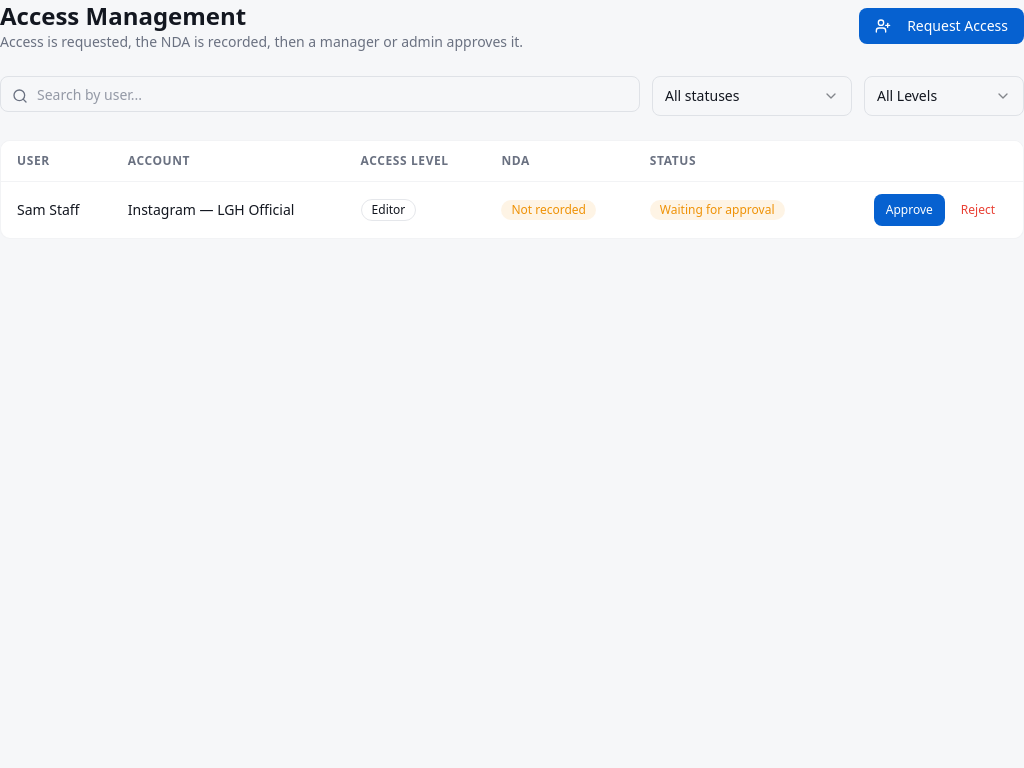
Test: Access Management › approves when allowed, and rejecting needs a reason
Later steps or results of the test are not shown.
Click the button "Approve" at point(909, 210), box [874,194,945,226]
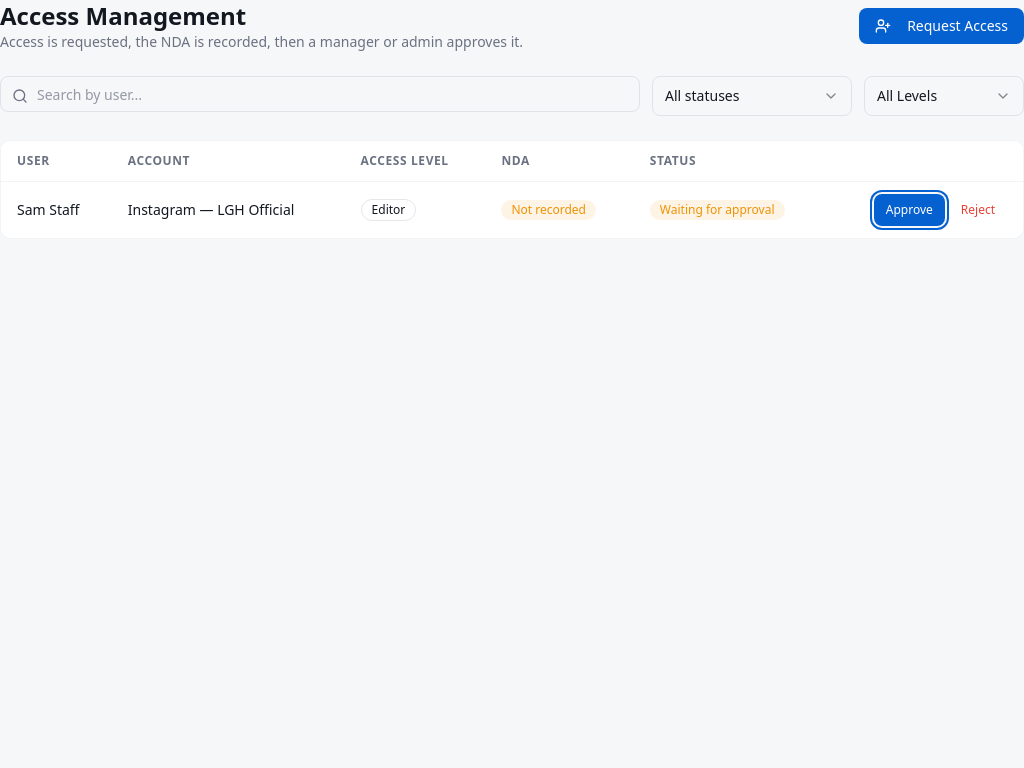
Click the button "Reject" at point(978, 210), box [949,194,1007,226]
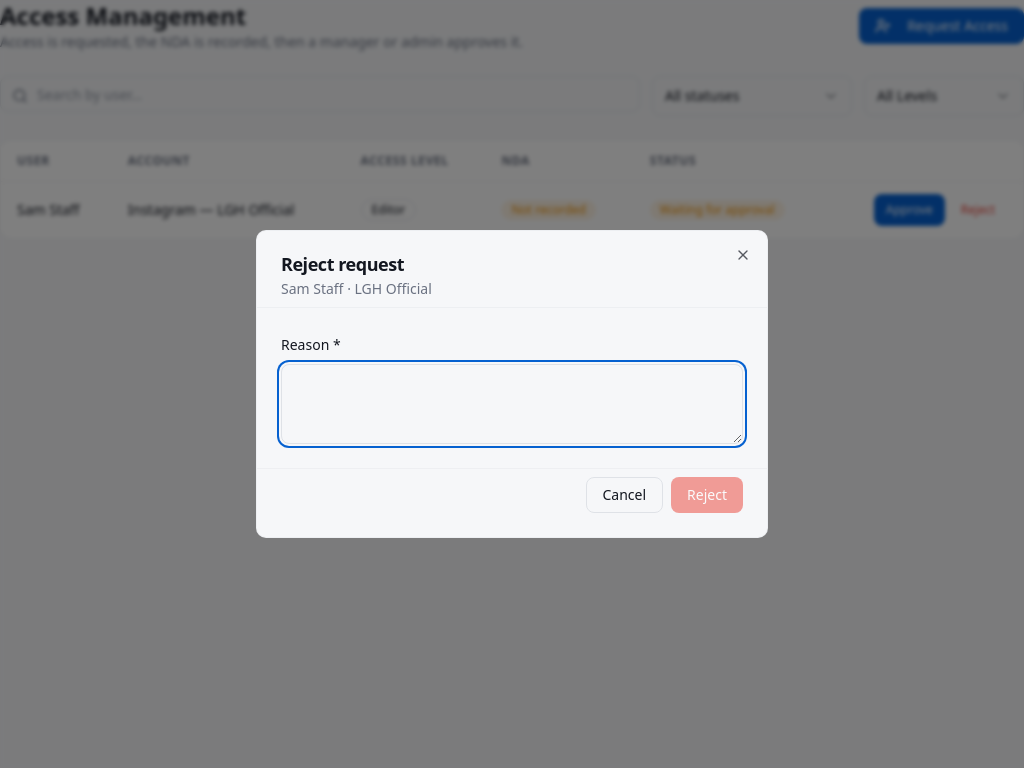
Expected: the button "Reject" is disabled, [671,477,743,513]
